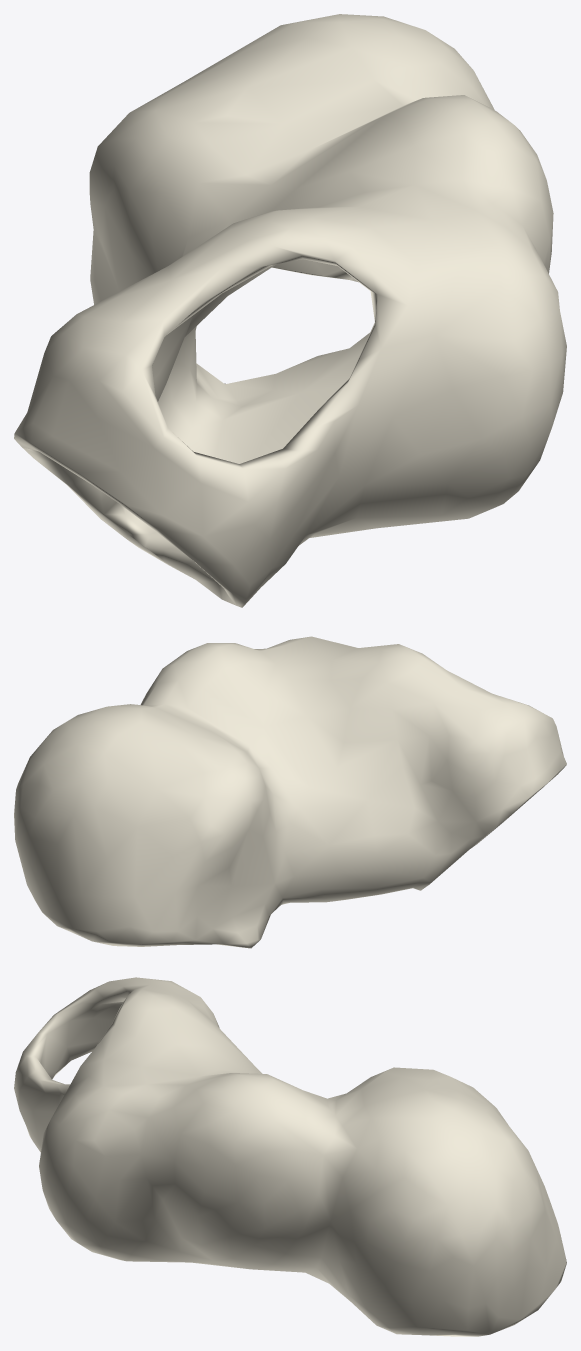
The model's file is fma55719_mm1054.glb.
The picture shows the model from 3 angles, top to bottom: view 1: azimuth 30°, elevation 25°; view 2: azimuth 150°, elevation 25°; view 3: azimuth 270°, elevation 25°; orthographic projection. The views are drawn at different scales.
Visible parts, largest first — view 1: FMA55719_MM1054; view 2: FMA55719_MM1054; view 3: FMA55719_MM1054.
Part boxes in pixels (box(x1,y1,x2,y2)): FMA55719_MM1054: box(14, 14, 566, 607); FMA55719_MM1054: box(14, 636, 566, 948); FMA55719_MM1054: box(14, 977, 566, 1336).
Bounding box in the file's own units: 0.00956 × 0.00504 × 0.0102.
